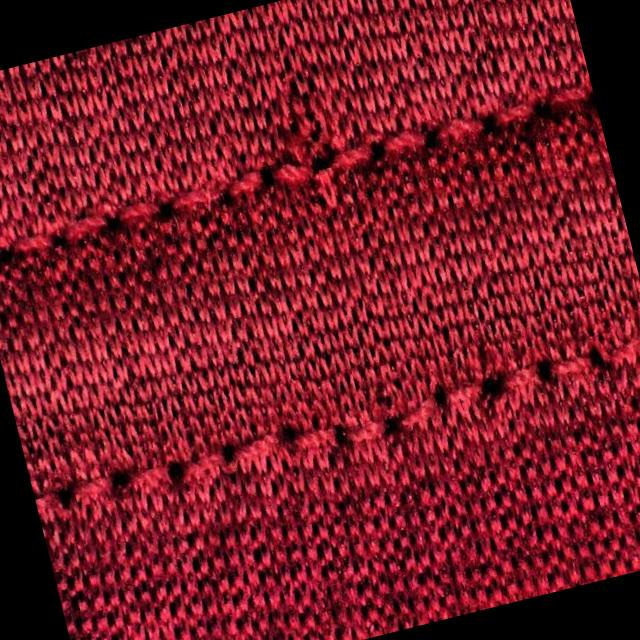gray stitch: (229, 94, 448, 252)
